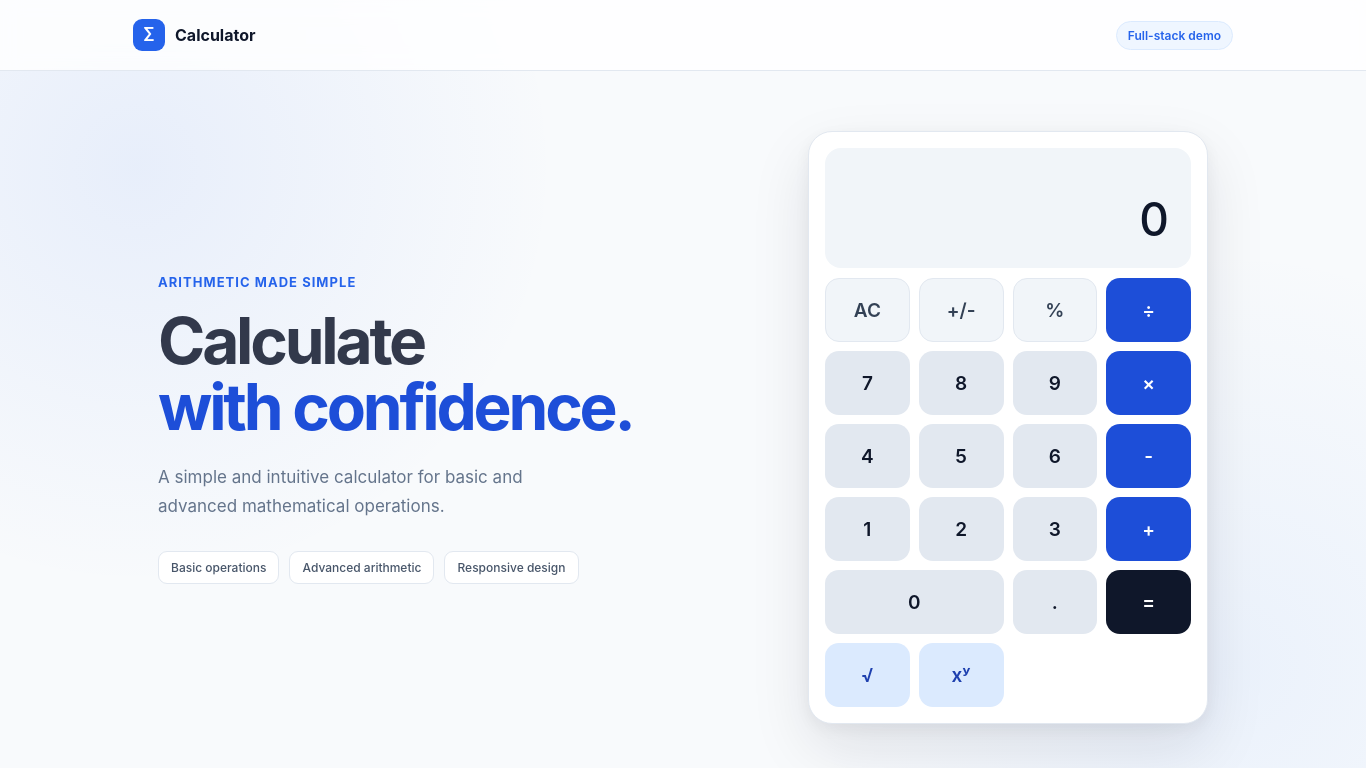
Test case: Calculator Component › handles clear operation
The image size is (1366, 768).
Click the button "1" at (867, 529), box [825,497,910,561]
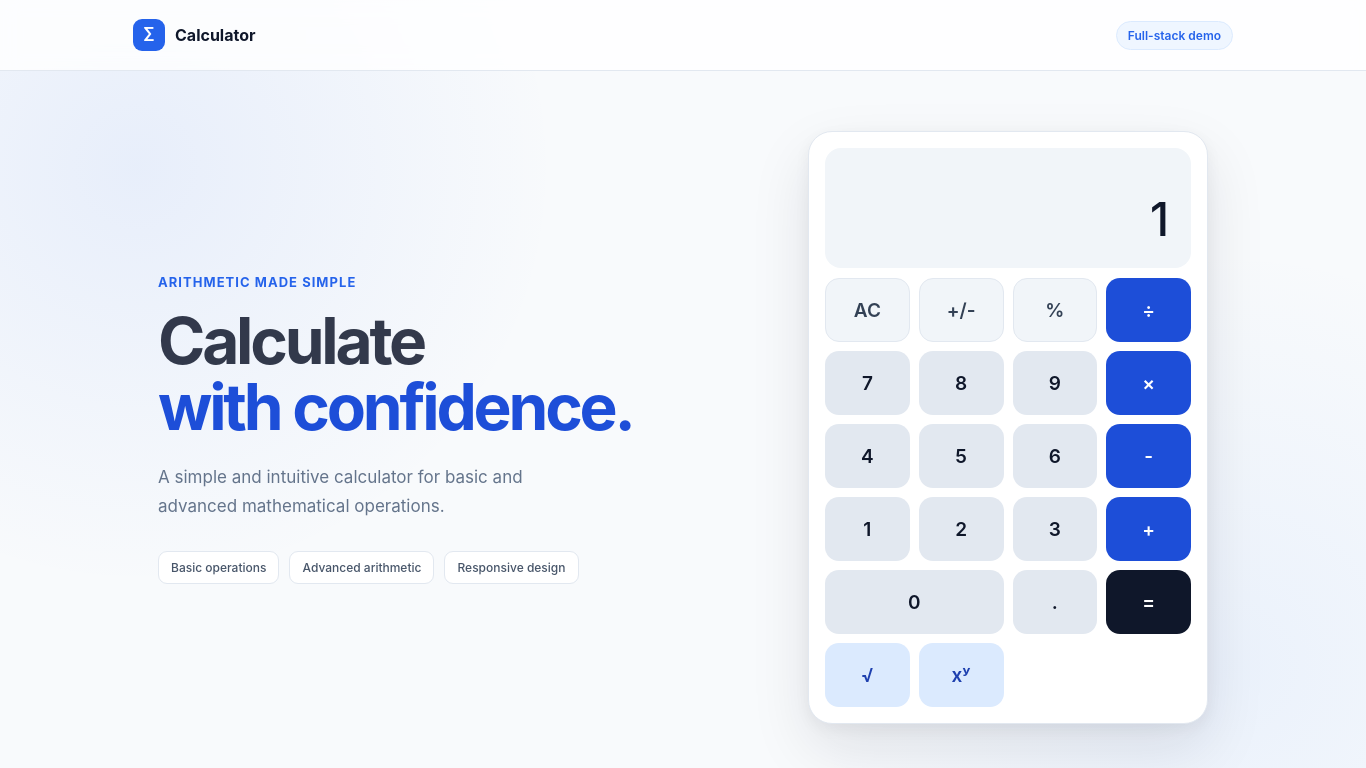
Click the button "AC" at (867, 310), box [825,278,910,342]
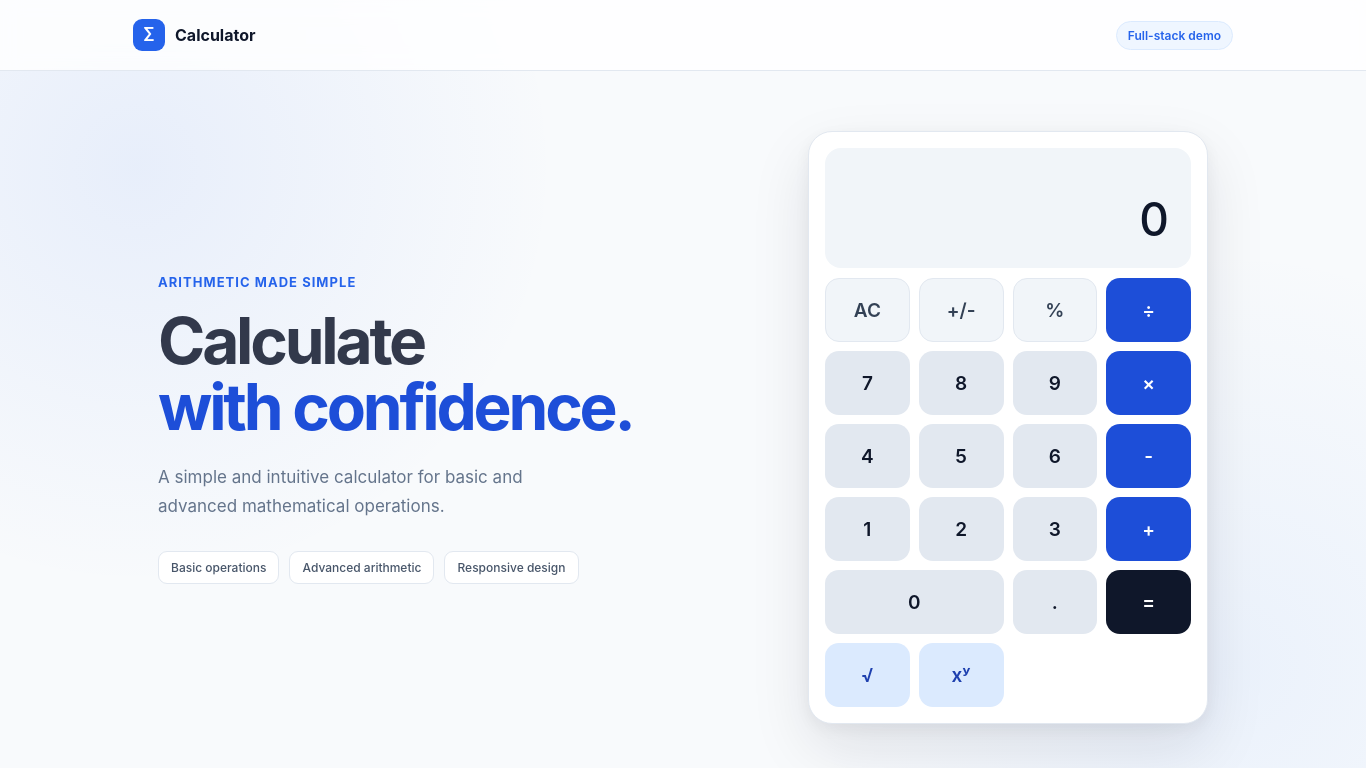
expect the field showing "0" is shown: met, box [845,190,1171,248]
